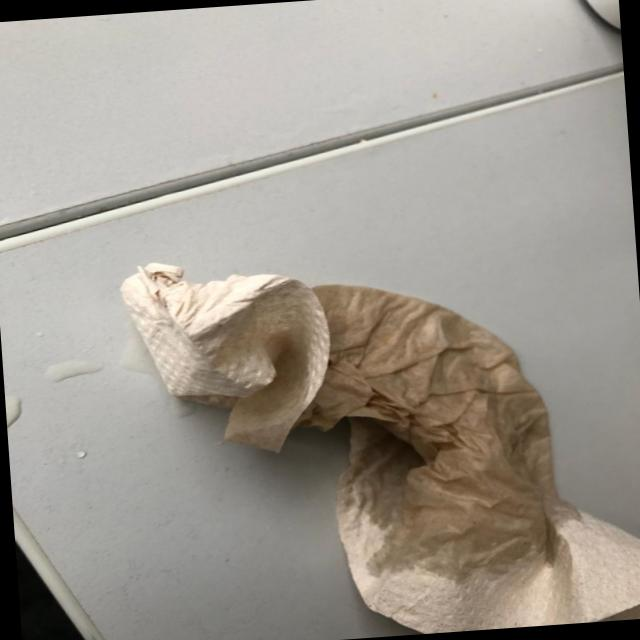organic waste: (123, 225, 640, 640)
